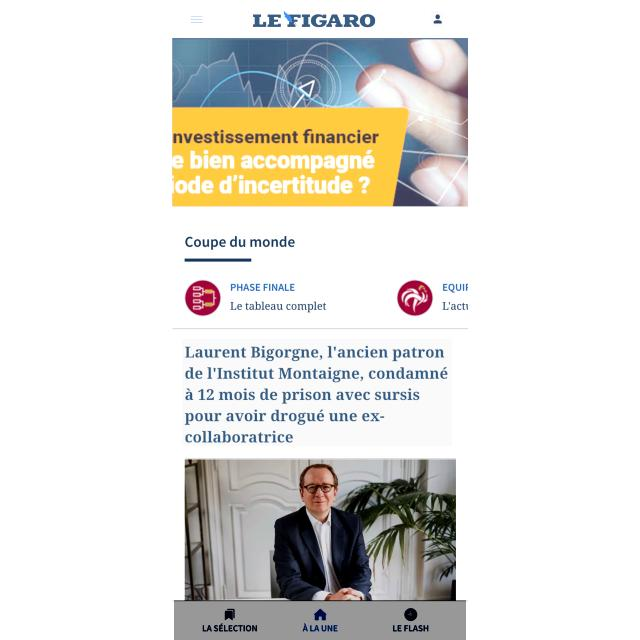accordion: (170, 215, 469, 222)
bag: (173, 7, 468, 37)
carousel: (431, 11, 444, 27)
copy: (173, 37, 469, 206), (185, 458, 456, 601)
date picker: (250, 10, 375, 30)
decoration: (174, 600, 466, 640), (191, 12, 205, 28)
image: (182, 339, 452, 446)
